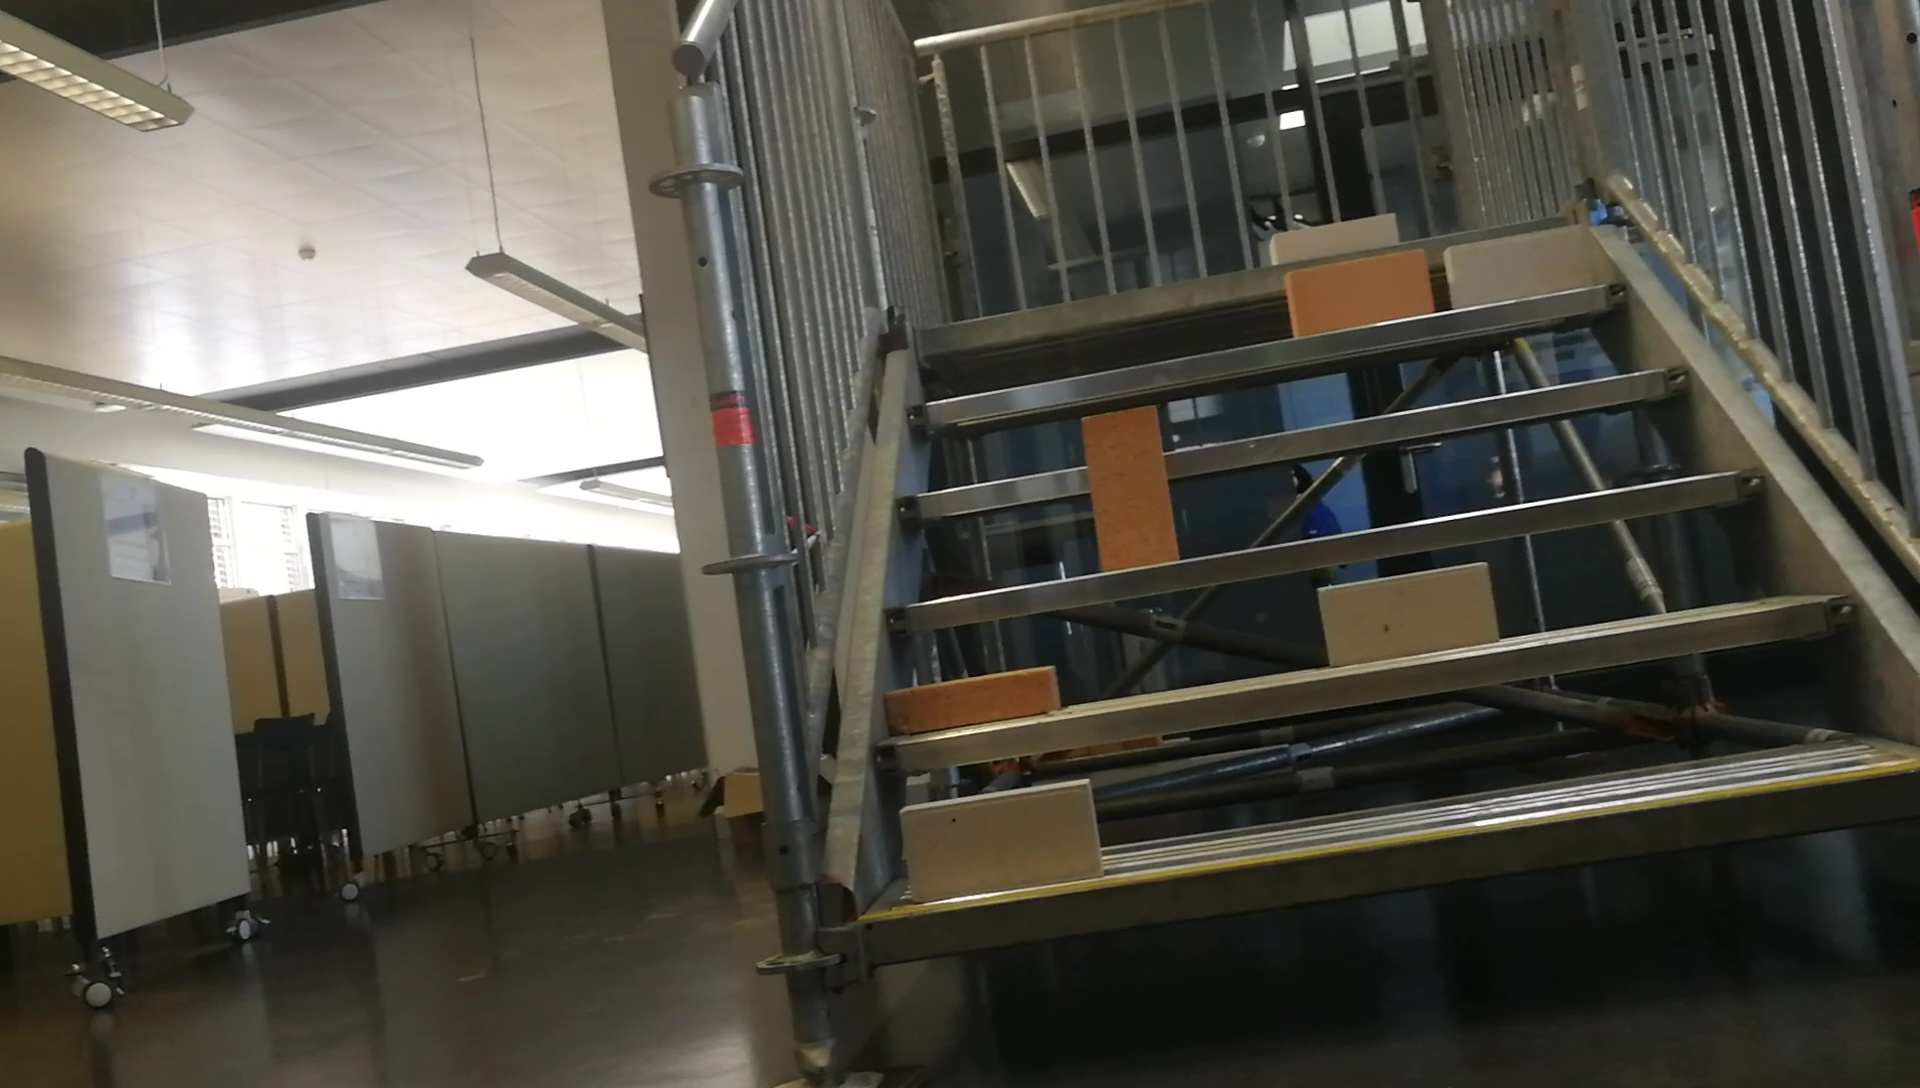brick: (901, 775, 1097, 903), (1323, 563, 1498, 662), (1085, 405, 1178, 568), (1287, 249, 1429, 334), (1445, 226, 1588, 305), (887, 667, 1058, 733), (1273, 214, 1396, 258)
edge: (862, 756, 1917, 968), (882, 589, 1855, 773), (885, 468, 1760, 630), (898, 361, 1688, 525), (905, 282, 1625, 427)
stairs: (645, 3, 1920, 1088)
steps: (837, 203, 1920, 985)
